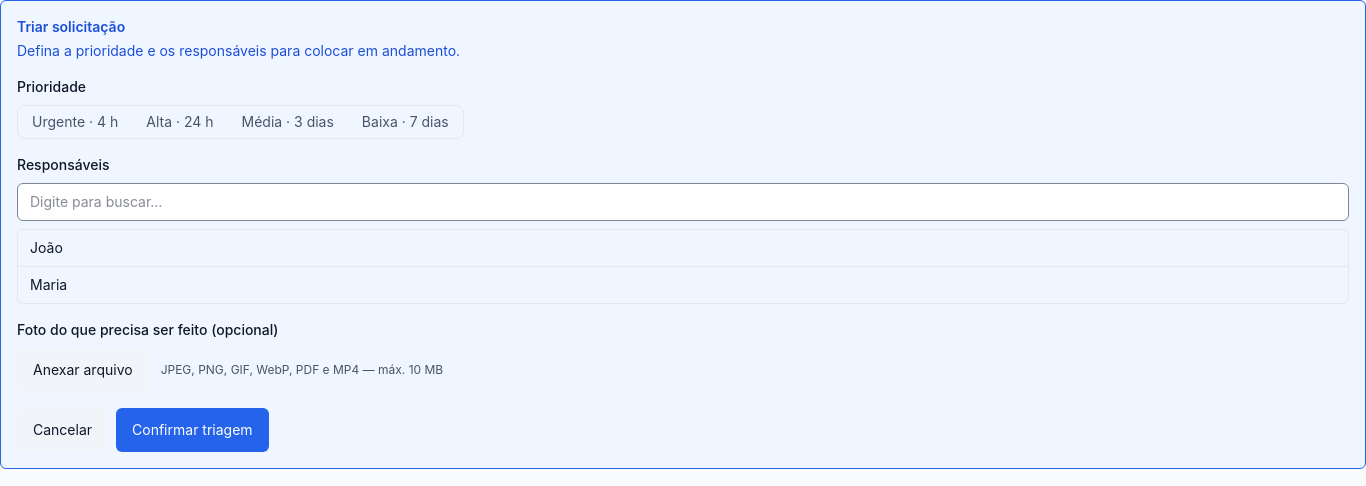
Test case: TriagemModal — responsáveis por busca › deve mostrar o escolhido como etiqueta removível quando uma opção é tocada
Click the button "Maria": (49, 284) [18,267,1348,303]
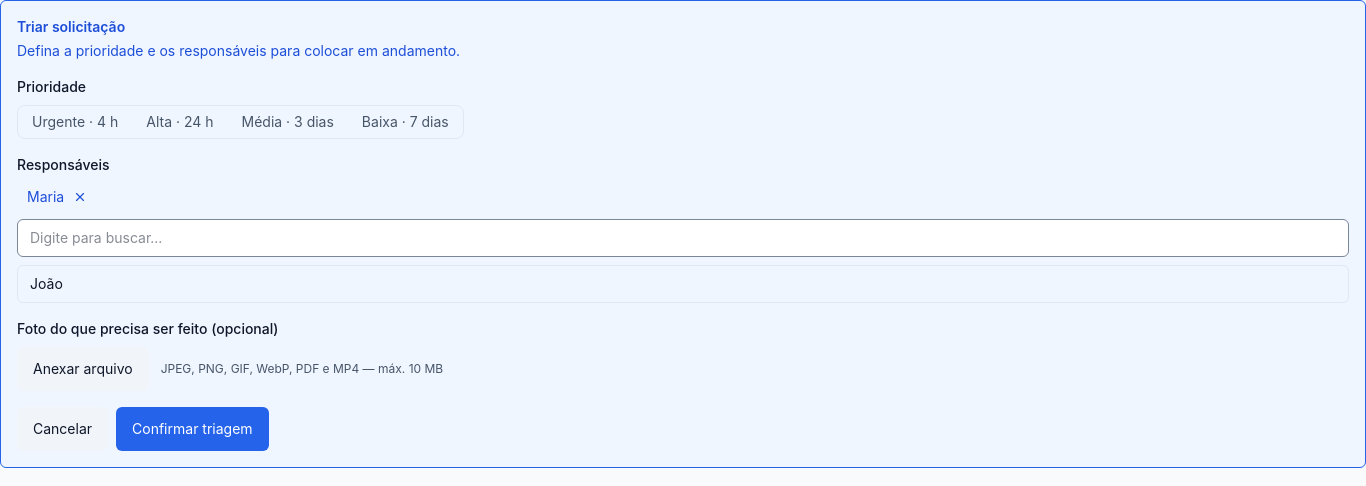
Now the button named "Remover Maria" is shown, box [68,185,92,209]
